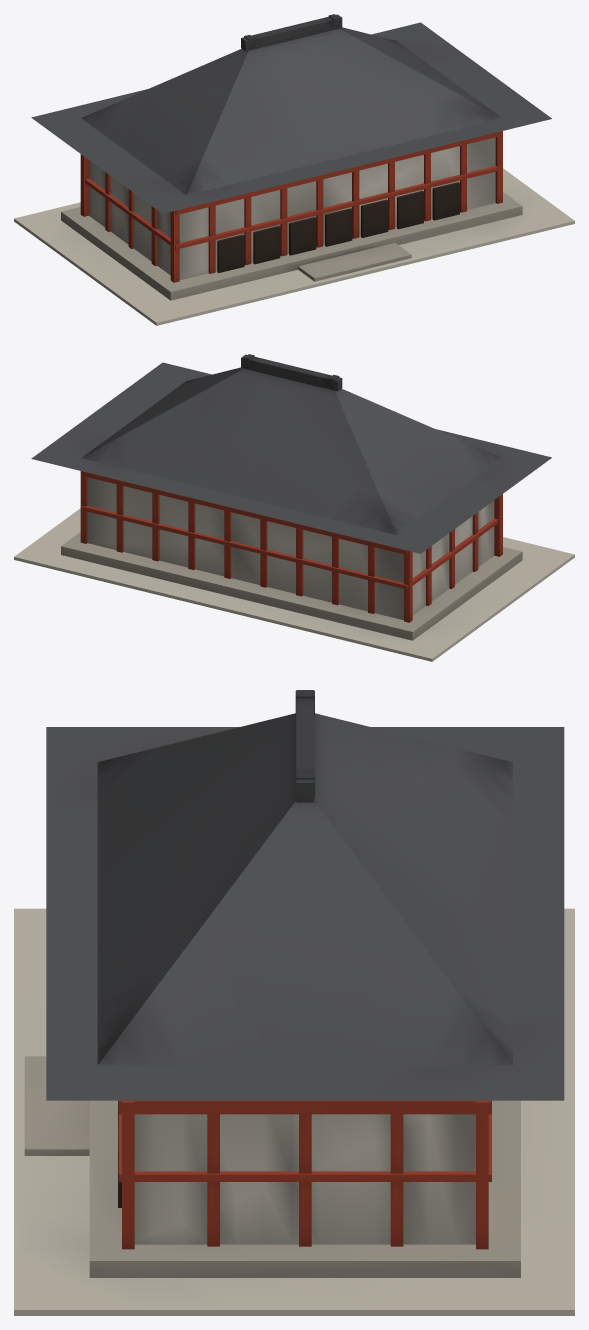
File: toji-kodo.glb
3 views of the same model, one above another, from view 1: azimuth 30°, elevation 25°; view 2: azimuth 150°, elevation 25°; view 3: azimuth 270°, elevation 25° (orthographic). The views are drawn at different scales.
Parts seen in each view (by area): view 1: p2_roofs, p1_halls, p0_grounds; view 2: p2_roofs, p1_halls, p0_grounds; view 3: p2_roofs, p1_halls, p0_grounds.
Part boxes in pixels (bbox=[...]): p2_roofs: bbox=[31, 14, 551, 213]; p1_halls: bbox=[61, 131, 522, 300]; p0_grounds: bbox=[14, 168, 574, 325]; p2_roofs: bbox=[31, 354, 551, 553]; p1_halls: bbox=[61, 471, 522, 640]; p0_grounds: bbox=[14, 508, 574, 661]; p2_roofs: bbox=[46, 690, 564, 1100]; p1_halls: bbox=[24, 1056, 520, 1277]; p0_grounds: bbox=[14, 908, 574, 1315].
Size of the model in its own units: 44 by 19.5 by 26.
